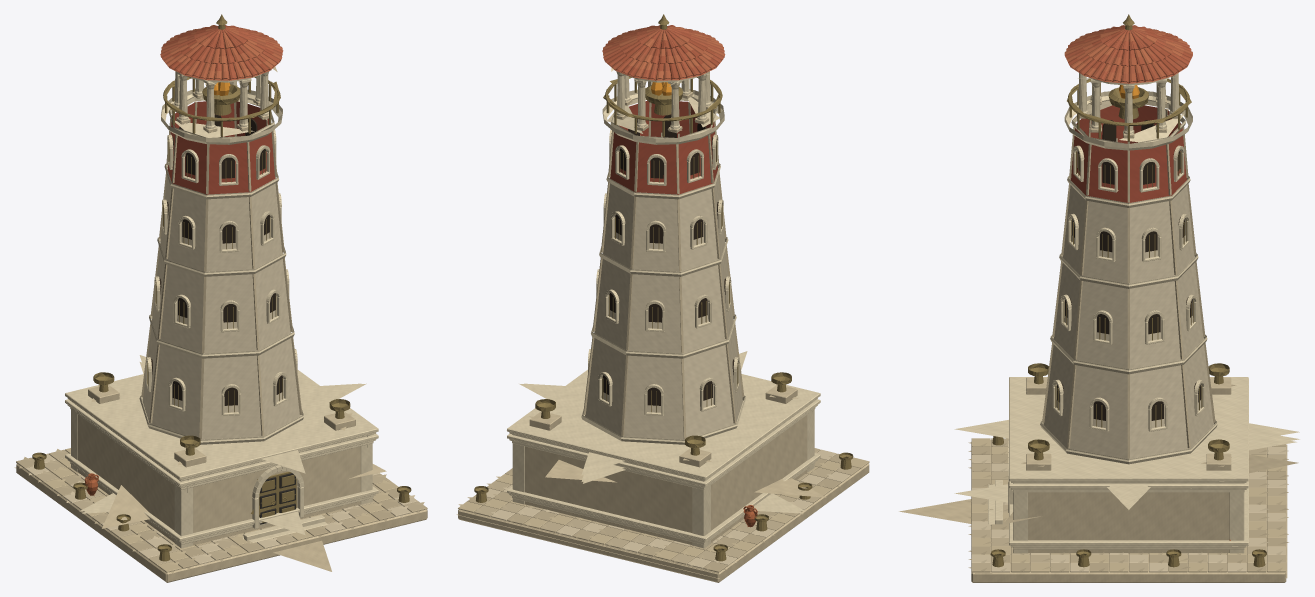
File: leuchtturm.glb
3 views of the same model, side by side, from view 1: azimuth 30°, elevation 25°; view 2: azimuth 150°, elevation 25°; view 3: azimuth 270°, elevation 25° (orthographic). The views are drawn at different scales.
Parts seen in each view (by area): view 1: Limestone_trim.001, Limewash.001, Travertine.001, Bronze.001, Pompeian_red.001, Limestone_trim.002, Limestone_trim.003, Paving_0.001, Paving_3.001, Paving_1.001, Travertine.003, Tile_0.001 (+10 smaller); view 2: Limestone_trim.001, Limewash.001, Travertine.001, Pompeian_red.001, Bronze.001, Limestone_trim.002, Paving_3.001, Paving_0.001, Limestone_trim.003, Paving_2.001, Paving_1.001, Interior_shadow.001 (+9 smaller); view 3: Limewash.001, Limestone_trim.001, Travertine.001, Pompeian_red.001, Bronze.001, Limestone_trim.002, Limestone_trim.003, Paving_3.001, Paving_2.001, Paving_0.001, Paving_1.001, Tile_0.001 (+9 smaller).
Boxes of the visible parts, bbox=[...] form: Limestone_trim.001: bbox=[65, 71, 378, 548]; Limewash.001: bbox=[142, 170, 300, 439]; Travertine.001: bbox=[16, 91, 427, 582]; Bronze.001: bbox=[32, 14, 411, 561]; Pompeian_red.001: bbox=[167, 101, 275, 194]; Limestone_trim.002: bbox=[68, 71, 303, 541]; Limestone_trim.003: bbox=[66, 66, 367, 539]; Paving_0.001: bbox=[44, 448, 398, 572]; Paving_3.001: bbox=[35, 449, 427, 565]; Paving_1.001: bbox=[16, 457, 401, 568]; Travertine.003: bbox=[14, 97, 386, 571]; Tile_0.001: bbox=[160, 25, 283, 79]; Limestone_trim.001: bbox=[507, 71, 820, 548]; Limewash.001: bbox=[585, 170, 742, 439]; Travertine.001: bbox=[458, 91, 869, 582]; Pompeian_red.001: bbox=[610, 100, 717, 194]; Bronze.001: bbox=[474, 14, 853, 561]; Limestone_trim.002: bbox=[512, 71, 796, 544]; Paving_3.001: bbox=[474, 448, 859, 564]; Paving_0.001: bbox=[458, 457, 869, 560]; Limestone_trim.003: bbox=[506, 67, 820, 540]; Paving_2.001: bbox=[486, 449, 850, 568]; Paving_1.001: bbox=[467, 453, 841, 572]; Interior_shadow.001: bbox=[603, 114, 734, 405]; Limewash.001: bbox=[1043, 185, 1213, 459]; Limestone_trim.001: bbox=[988, 73, 1248, 553]; Travertine.001: bbox=[971, 97, 1286, 582]; Pompeian_red.001: bbox=[1070, 105, 1186, 202]; Bronze.001: bbox=[991, 14, 1266, 567]; Limestone_trim.002: bbox=[1008, 73, 1246, 552]; Limestone_trim.003: bbox=[954, 77, 1299, 548]; Paving_3.001: bbox=[971, 438, 1285, 572]; Paving_2.001: bbox=[971, 446, 1285, 572]; Paving_0.001: bbox=[971, 438, 1285, 572]; Paving_1.001: bbox=[971, 444, 1285, 572]; Tile_0.001: bbox=[1064, 26, 1191, 80].
Size of the model in its own units: 15.39 by 24.66 by 17.86.
Materials: 19 (5 with a texture image).
